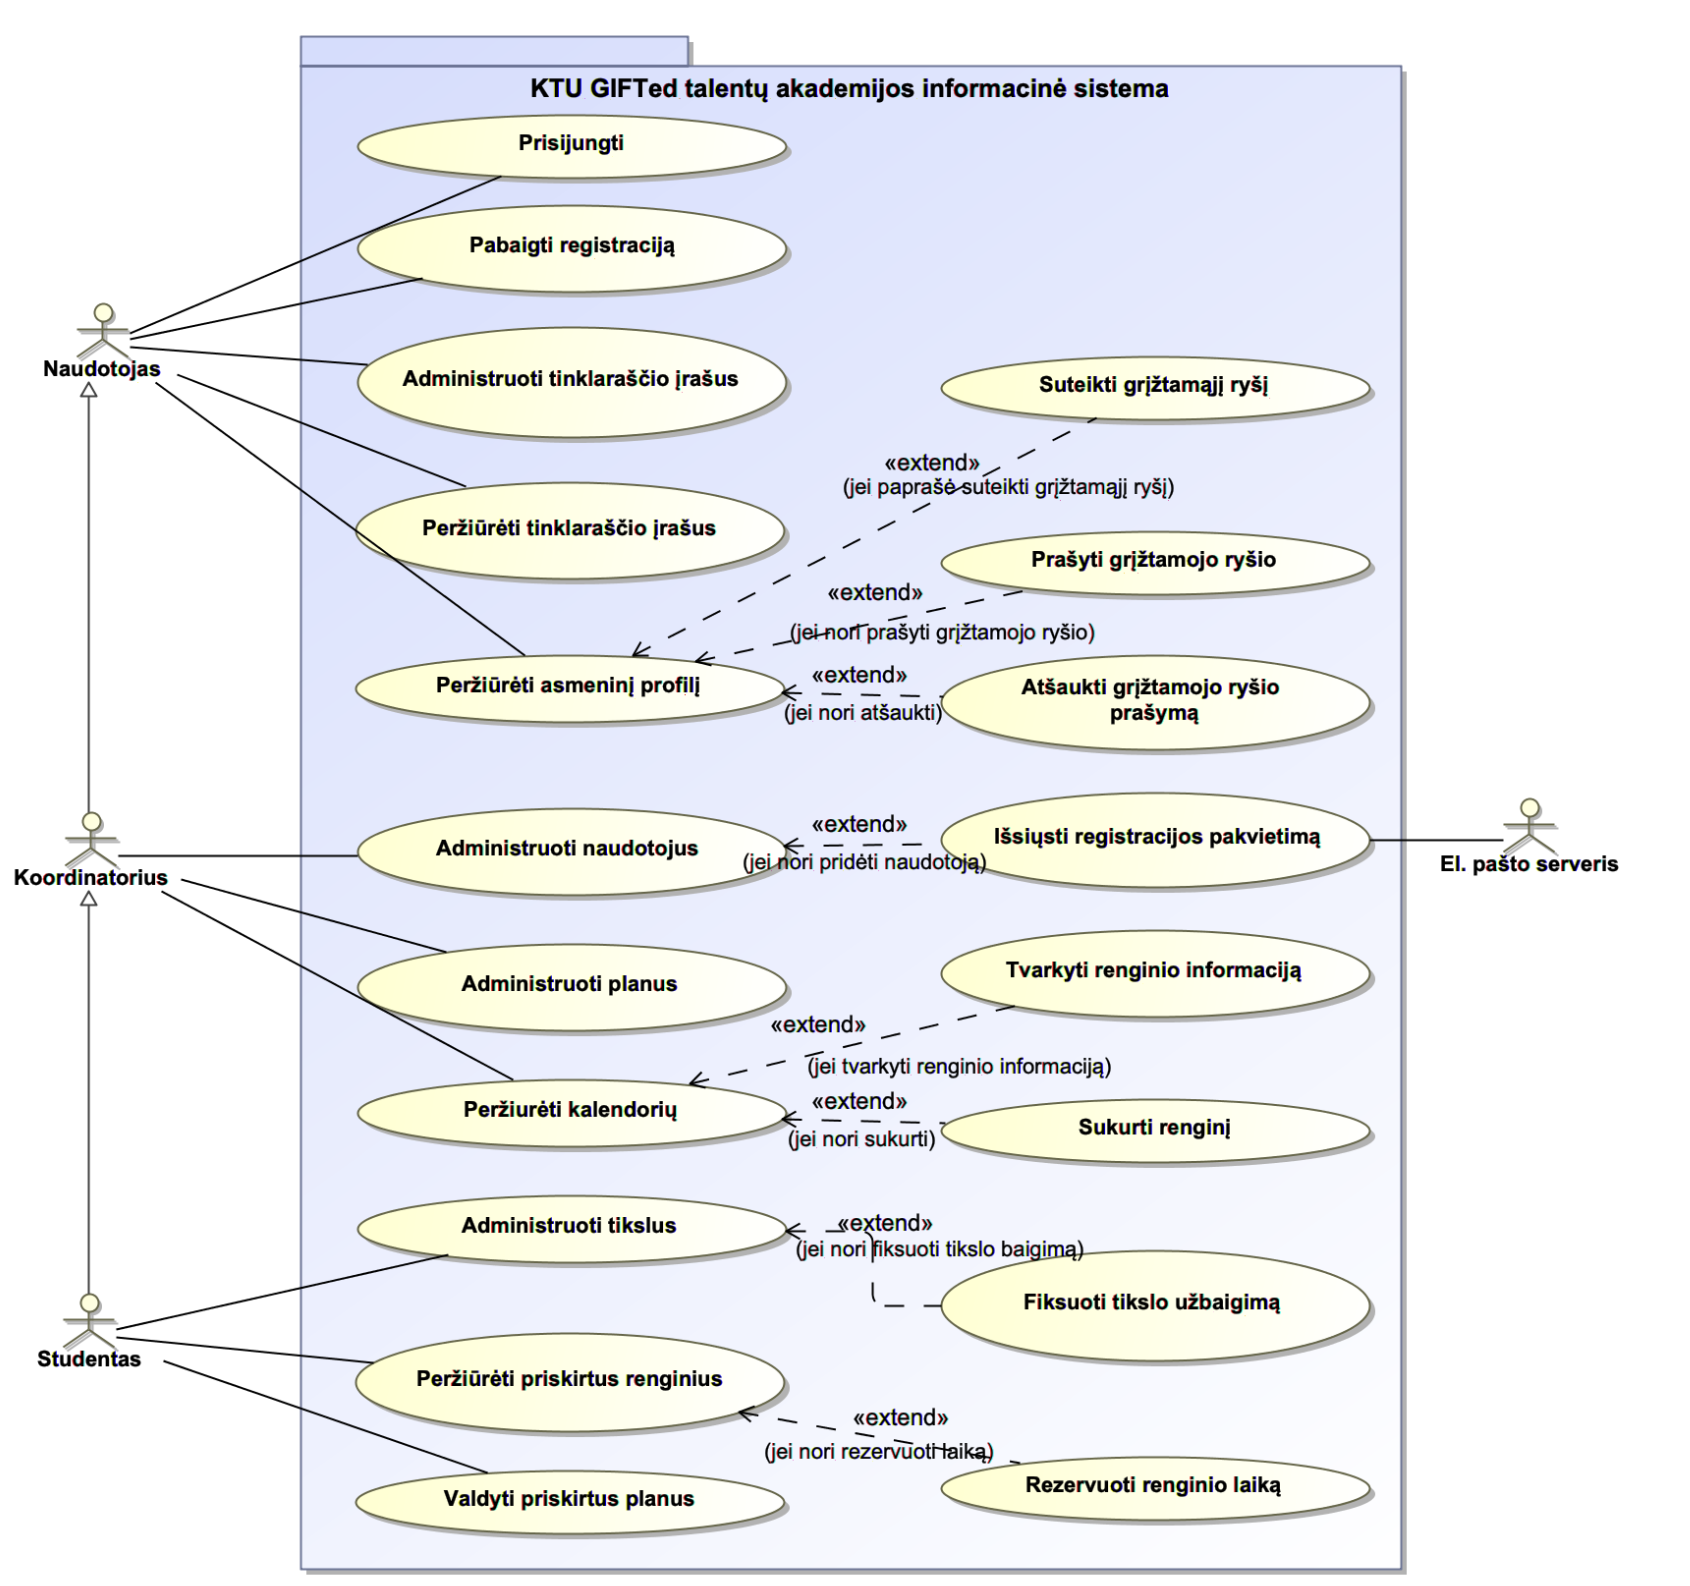actor: (63, 297, 137, 364), (60, 809, 122, 869), (61, 1289, 116, 1353), (1505, 796, 1559, 854)
association: (629, 416, 1103, 660), (161, 380, 525, 654), (164, 885, 504, 1078), (134, 174, 496, 332), (164, 1353, 487, 1470), (176, 370, 463, 492), (687, 1000, 1018, 1085), (121, 1251, 449, 1333), (700, 587, 1022, 666), (179, 871, 440, 955), (145, 274, 426, 343), (735, 1403, 982, 1468), (784, 1219, 945, 1319), (75, 385, 103, 808), (73, 888, 100, 1292), (118, 1333, 364, 1368), (140, 341, 359, 377), (118, 842, 359, 868), (788, 1103, 946, 1140), (785, 832, 937, 856), (1373, 826, 1502, 853)
text: (835, 447, 1186, 519), (525, 70, 1185, 107), (1018, 669, 1286, 730), (1001, 950, 1329, 993), (395, 361, 750, 399), (991, 817, 1340, 856), (420, 505, 721, 550), (405, 1359, 735, 1400), (423, 829, 727, 869), (803, 1046, 1122, 1084), (738, 844, 987, 891), (757, 1424, 999, 1471), (791, 1234, 1098, 1271), (776, 614, 1109, 648), (1013, 1283, 1297, 1322), (434, 1482, 709, 1520), (429, 666, 708, 704), (449, 1090, 686, 1133), (1018, 1465, 1291, 1503), (453, 1207, 683, 1248), (1013, 544, 1294, 577), (456, 964, 691, 1003), (1072, 1109, 1252, 1154), (463, 230, 686, 265), (1021, 373, 1279, 402), (1434, 847, 1627, 885), (787, 1115, 937, 1160), (784, 701, 946, 732), (794, 803, 920, 842), (9, 865, 174, 893), (852, 1397, 955, 1438), (513, 130, 648, 161), (33, 353, 165, 383), (753, 1008, 873, 1039), (25, 1345, 149, 1374), (806, 660, 927, 690), (830, 1207, 943, 1239), (808, 581, 931, 610), (794, 1087, 917, 1115)
use_case: (355, 320, 794, 449), (933, 1246, 1379, 1371), (933, 648, 1376, 760), (349, 1330, 791, 1440), (937, 789, 1376, 897), (356, 477, 787, 584), (352, 938, 793, 1042), (943, 926, 1379, 1027), (353, 803, 799, 902), (353, 200, 790, 298), (937, 1450, 1380, 1532), (355, 1073, 802, 1154), (353, 1465, 791, 1546), (352, 650, 787, 730), (358, 1191, 788, 1271), (937, 1094, 1380, 1172), (937, 528, 1376, 604), (353, 110, 794, 185), (937, 353, 1376, 426)
